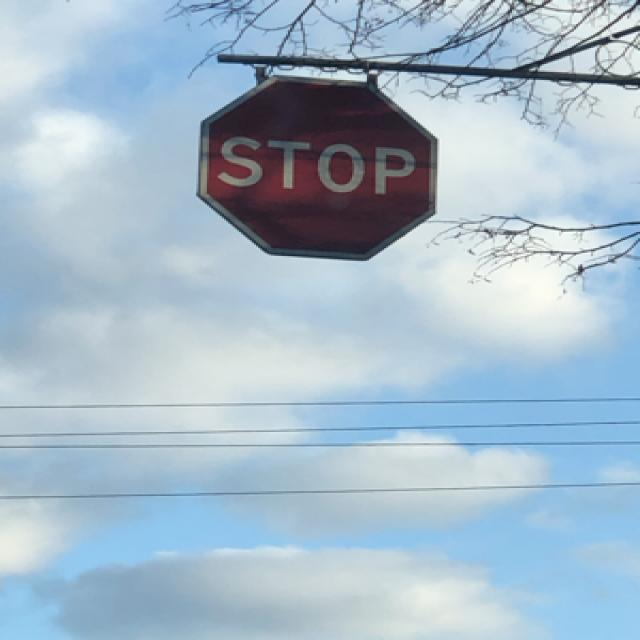stop: (194, 72, 437, 259)
